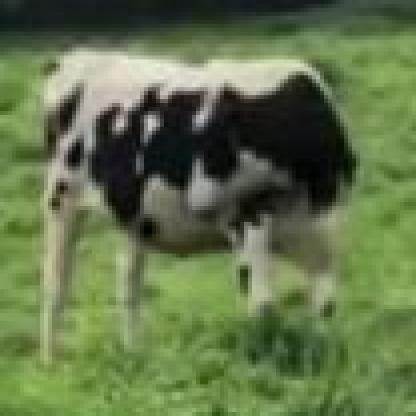cow: (42, 52, 346, 368)
